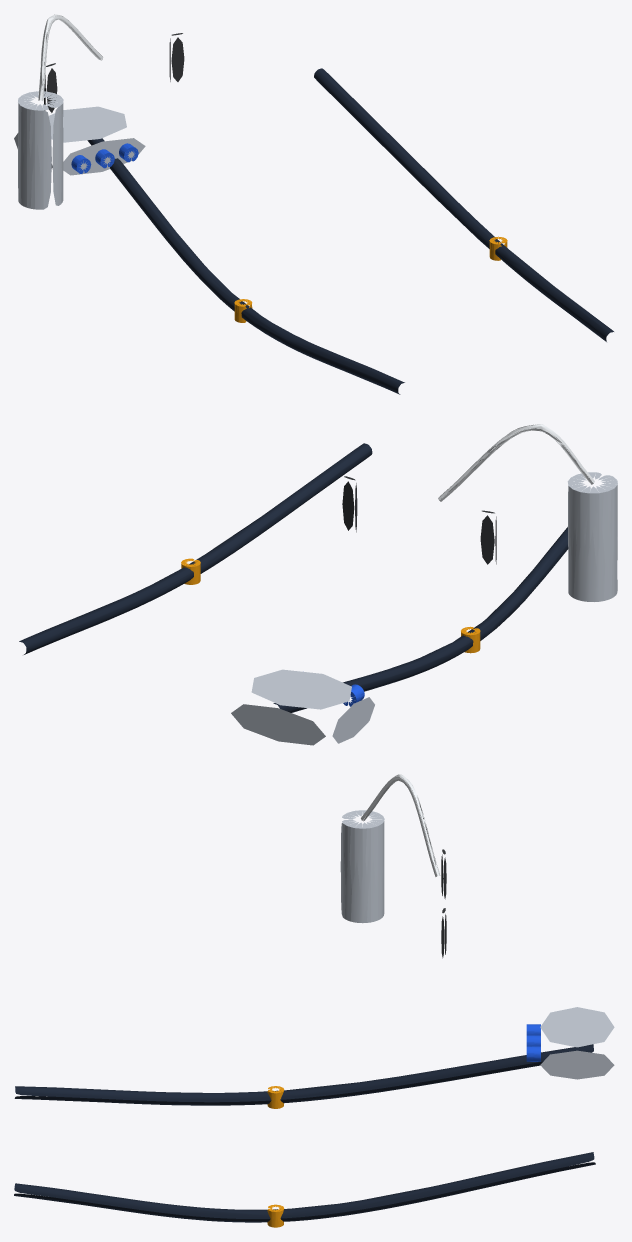
The model's file is cockpit_electronics.glb.
3 renders of one model, top to bottom at view 1: azimuth 30°, elevation 25°; view 2: azimuth 150°, elevation 25°; view 3: azimuth 270°, elevation 25°, orthographic. The views are drawn at different scales.
Visible parts, largest first — view 1: Cockpit_Motorsport_Electronics_Assembly, Motorsport_ECU_PDU_Unit; view 2: Cockpit_Motorsport_Electronics_Assembly, Motorsport_ECU_PDU_Unit; view 3: Cockpit_Motorsport_Electronics_Assembly, Motorsport_ECU_PDU_Unit.
Part boxes in pixels (x1,y1,x2,y2): Cockpit_Motorsport_Electronics_Assembly: [18, 14, 613, 394]; Motorsport_ECU_PDU_Unit: [14, 106, 145, 175]; Cockpit_Motorsport_Electronics_Assembly: [19, 424, 617, 712]; Motorsport_ECU_PDU_Unit: [231, 669, 374, 745]; Cockpit_Motorsport_Electronics_Assembly: [14, 774, 595, 1227]; Motorsport_ECU_PDU_Unit: [526, 1007, 614, 1079].
Size of the model in its own units: 0.835 by 0.5153 by 1.04.
